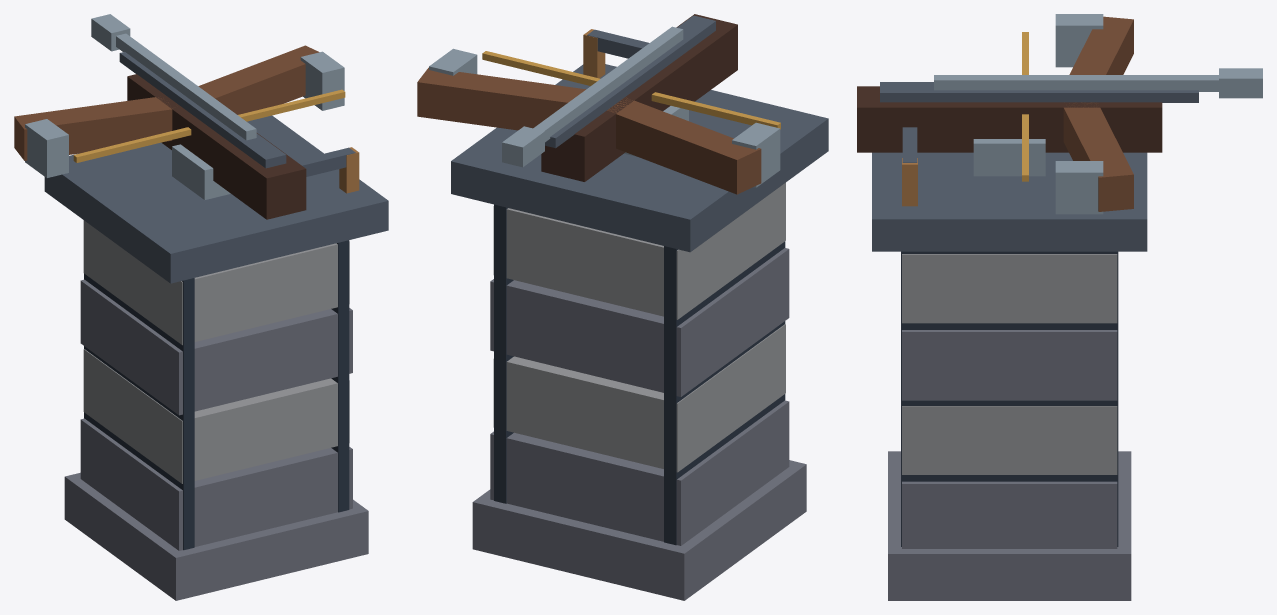
File: ballista.gltf
The picture shows the model from 3 angles, left to right: view 1: azimuth 30°, elevation 25°; view 2: azimuth 150°, elevation 25°; view 3: azimuth 270°, elevation 25°; orthographic projection. The views are drawn at different scales.
Visible parts, largest first — view 1: Body, BowPivot; view 2: Body, BowPivot; view 3: Body, BowPivot.
Boxes of the visible parts, <box> form: Body: <box>44,115,388,600</box>; BowPivot: <box>14,14,359,219</box>; Body: <box>451,64,828,600</box>; BowPivot: <box>417,14,780,194</box>; Body: <box>872,139,1147,600</box>; BowPivot: <box>857,14,1262,214</box>.
Size of the model in its own units: 1.92 by 2.63 by 2.03.
